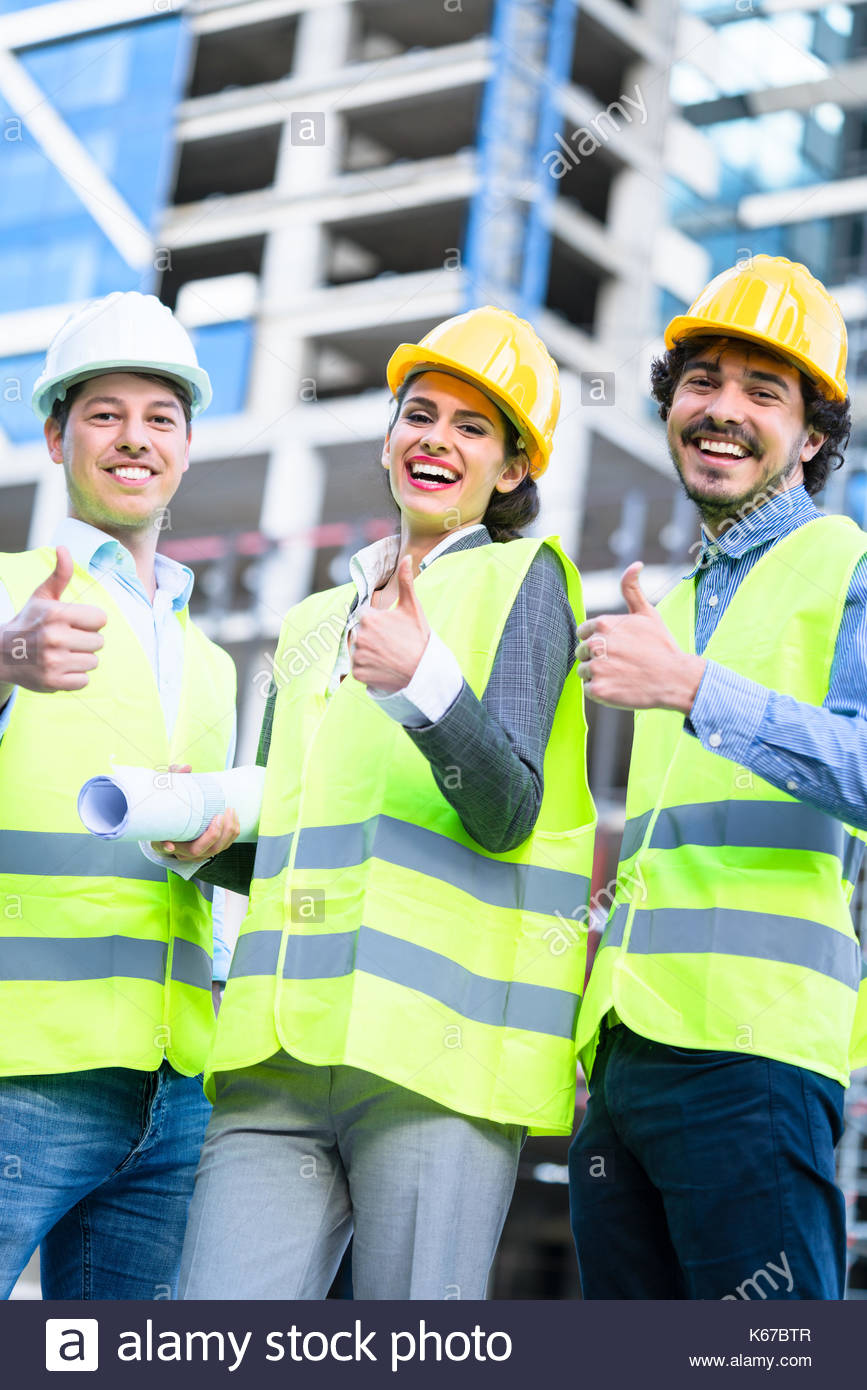casco: (383, 303, 565, 490), (660, 250, 853, 414), (29, 287, 217, 418)
